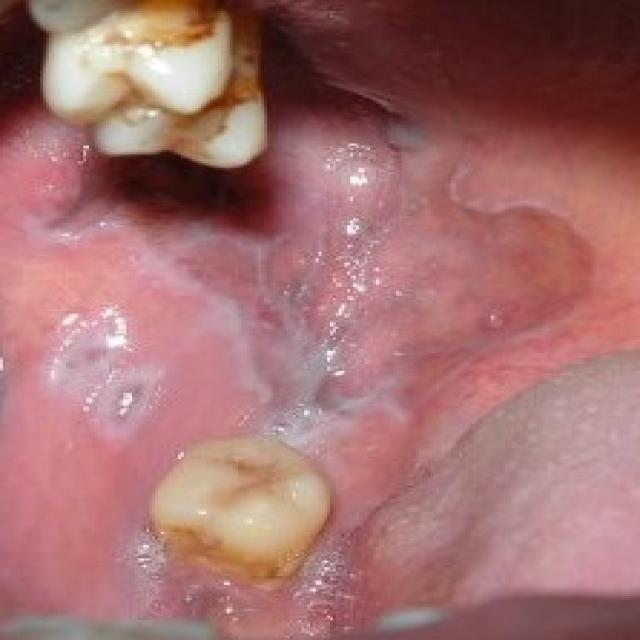Cancer: (242, 93, 604, 420), (28, 281, 192, 489)
